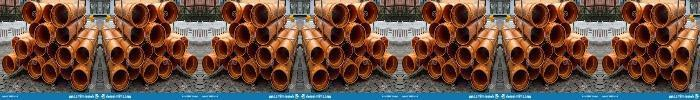pipe: (331, 3, 349, 27), (251, 3, 269, 27), (451, 3, 469, 27), (131, 3, 149, 27), (531, 3, 549, 27), (51, 3, 69, 27), (651, 3, 669, 27), (312, 69, 329, 90), (271, 69, 288, 90), (471, 69, 488, 90), (112, 69, 129, 90), (512, 69, 529, 90), (71, 69, 88, 90), (671, 69, 688, 90), (350, 24, 365, 46), (363, 1, 378, 23), (235, 24, 250, 46), (435, 24, 450, 46), (150, 24, 165, 46), (550, 24, 565, 46), (35, 24, 50, 46), (635, 24, 650, 46), (222, 1, 237, 23), (422, 1, 437, 23), (163, 1, 178, 23), (563, 1, 578, 23), (22, 1, 37, 23), (622, 1, 637, 23), (328, 47, 344, 67), (256, 47, 272, 67), (456, 47, 472, 67), (128, 47, 144, 67), (528, 47, 544, 67), (56, 47, 72, 67), (656, 47, 672, 67), (344, 63, 359, 83), (241, 63, 256, 83), (441, 63, 456, 83), (144, 63, 159, 83), (544, 63, 559, 83), (41, 63, 56, 83), (641, 63, 656, 83), (310, 46, 325, 64), (275, 46, 290, 64), (475, 46, 490, 64), (110, 46, 125, 64), (510, 46, 525, 64), (75, 46, 90, 64), (675, 46, 690, 64), (343, 4, 357, 22), (243, 4, 257, 22), (443, 4, 457, 22), (143, 4, 157, 22), (543, 4, 557, 22), (43, 4, 57, 22), (643, 4, 657, 22), (372, 40, 385, 59), (215, 40, 228, 59), (415, 40, 428, 59), (172, 40, 185, 59), (572, 40, 585, 59), (15, 40, 28, 59), (615, 40, 628, 59), (330, 27, 344, 44), (256, 27, 270, 44), (456, 27, 470, 44), (130, 27, 144, 44), (530, 27, 544, 44), (56, 27, 70, 44), (656, 27, 670, 44), (359, 60, 372, 78), (228, 60, 241, 78), (428, 60, 441, 78), (159, 60, 172, 78), (559, 60, 572, 78), (28, 60, 41, 78), (628, 60, 641, 78), (386, 56, 398, 74), (202, 56, 214, 74), (402, 56, 414, 74), (186, 56, 198, 74), (586, 56, 598, 74), (2, 56, 14, 74), (602, 56, 614, 74), (326, 64, 339, 79), (261, 64, 274, 79), (461, 64, 474, 79), (126, 64, 139, 79), (526, 64, 539, 79), (61, 64, 74, 79), (661, 64, 674, 79), (359, 23, 371, 38), (229, 23, 241, 38), (429, 23, 441, 38), (159, 23, 171, 38), (559, 23, 571, 38), (29, 23, 41, 38), (629, 23, 641, 38), (341, 43, 352, 59), (248, 43, 259, 59), (448, 43, 459, 59), (141, 43, 152, 59), (541, 43, 552, 59), (48, 43, 59, 59), (648, 43, 659, 59), (354, 41, 366, 55), (234, 41, 246, 55), (434, 41, 446, 55), (154, 41, 166, 55), (554, 41, 566, 55), (34, 41, 46, 55), (634, 41, 646, 55), (367, 55, 378, 69), (222, 55, 233, 69), (422, 55, 433, 69), (167, 55, 178, 69), (567, 55, 578, 69), (22, 55, 33, 69), (622, 55, 633, 69), (379, 36, 388, 49), (212, 36, 221, 49), (412, 36, 421, 49), (179, 36, 188, 49), (579, 36, 588, 49), (12, 36, 21, 49), (612, 36, 621, 49)
